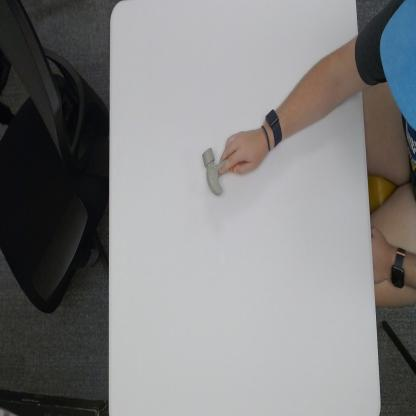Arm: (284, 39, 360, 137)
Hammer: (203, 145, 247, 198)
Hand: (221, 122, 272, 176)
